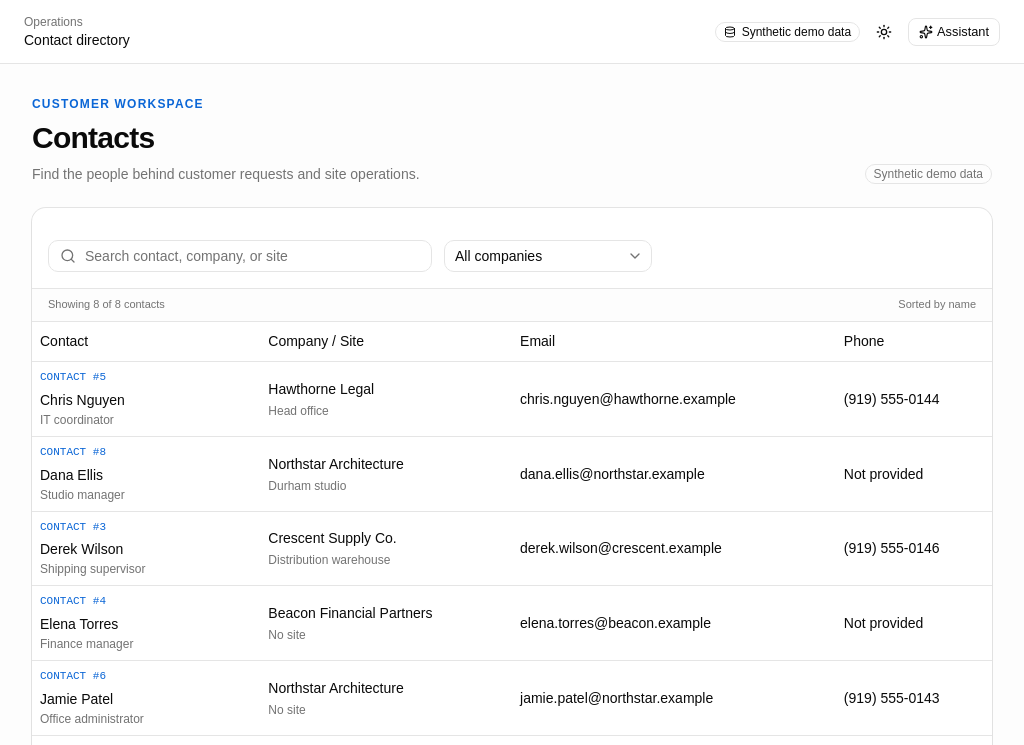
Test: contact routes › combines search with the company filter and clears both
Click the dropdown named "Filter by company".
click(548, 256)  # box [444,240,652,272]
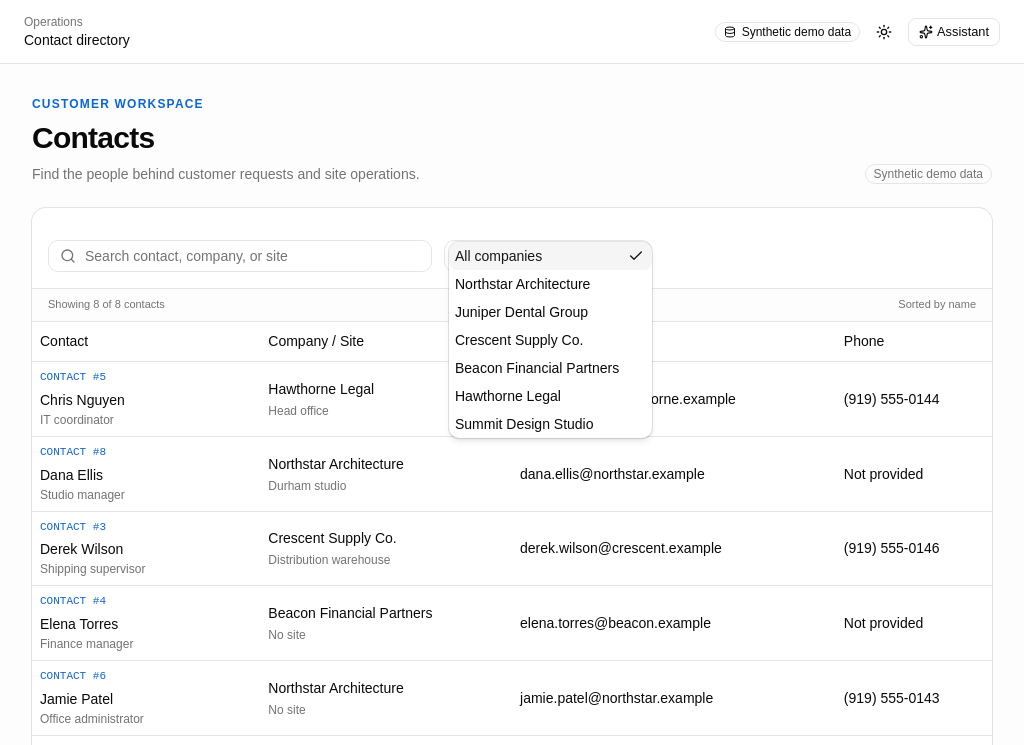
Click the option "Juniper Dental Group".
click(522, 312)  # box [455,304,588,320]
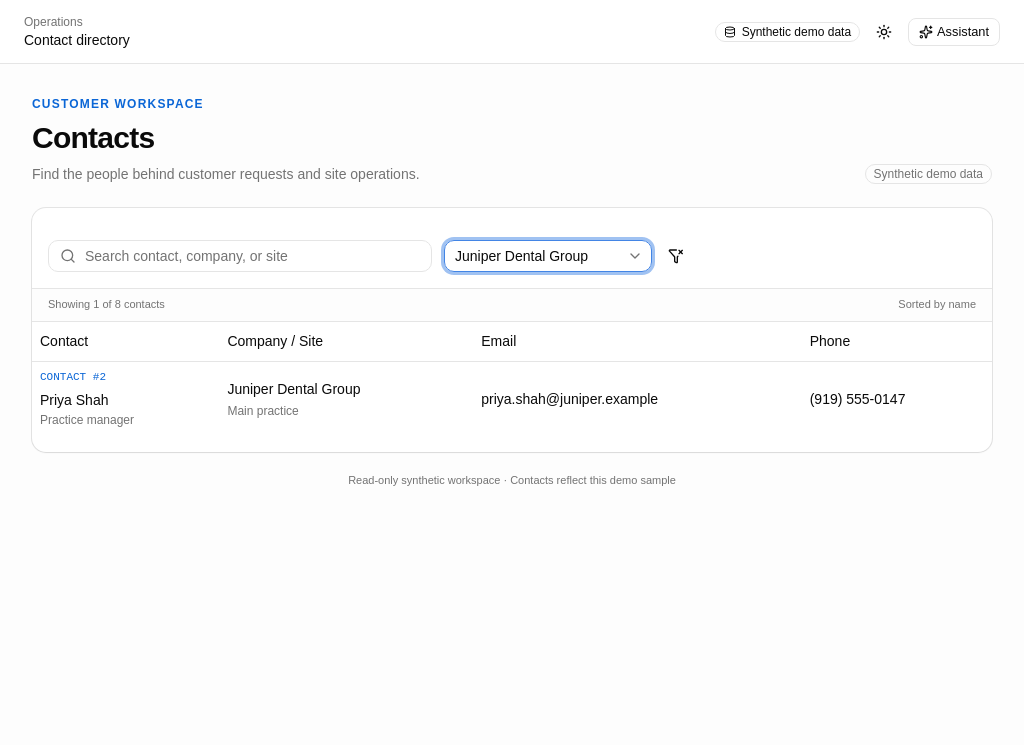
Expected: the text "Showing 1 of 8 contacts" is shown, [48,297,165,313]
Expected: the link with aria-label "Open contact #2: Priya Shah" is shown, [40,390,108,410]
Type "Morgan" into the field named "Search contacts".
click(240, 256); type("Morgan")  # box [48,240,432,272]
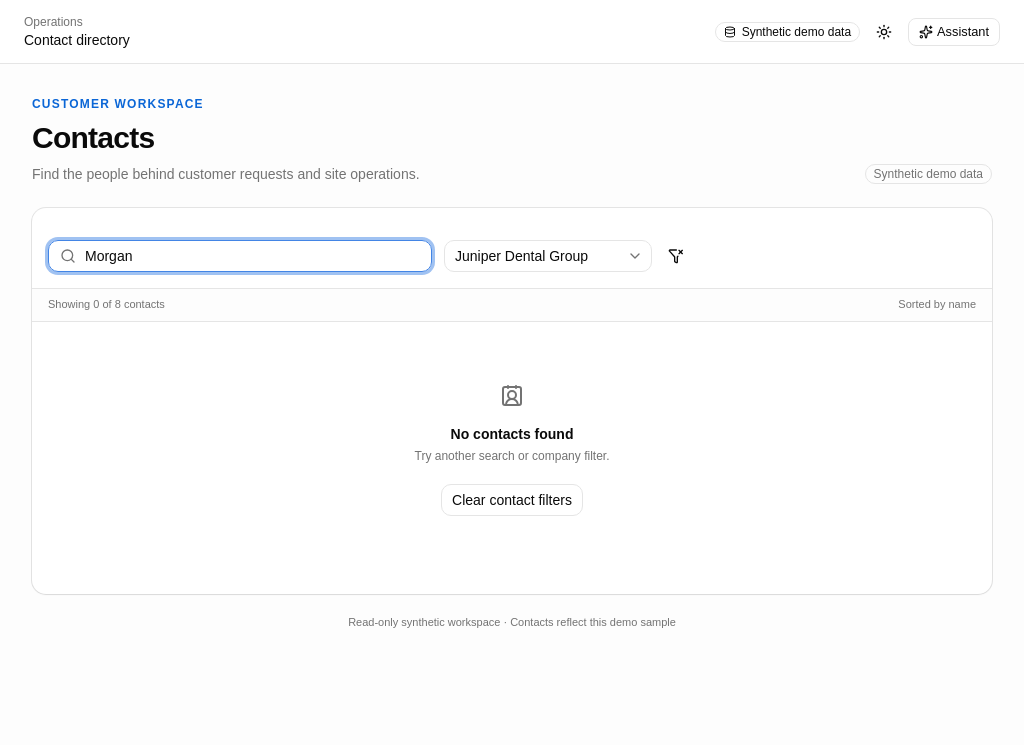
Expected: the heading "No contacts found" is shown, [450,424,573,444]
Click the button "Clear contact filters".
click(512, 500)  # box [441,484,583,516]
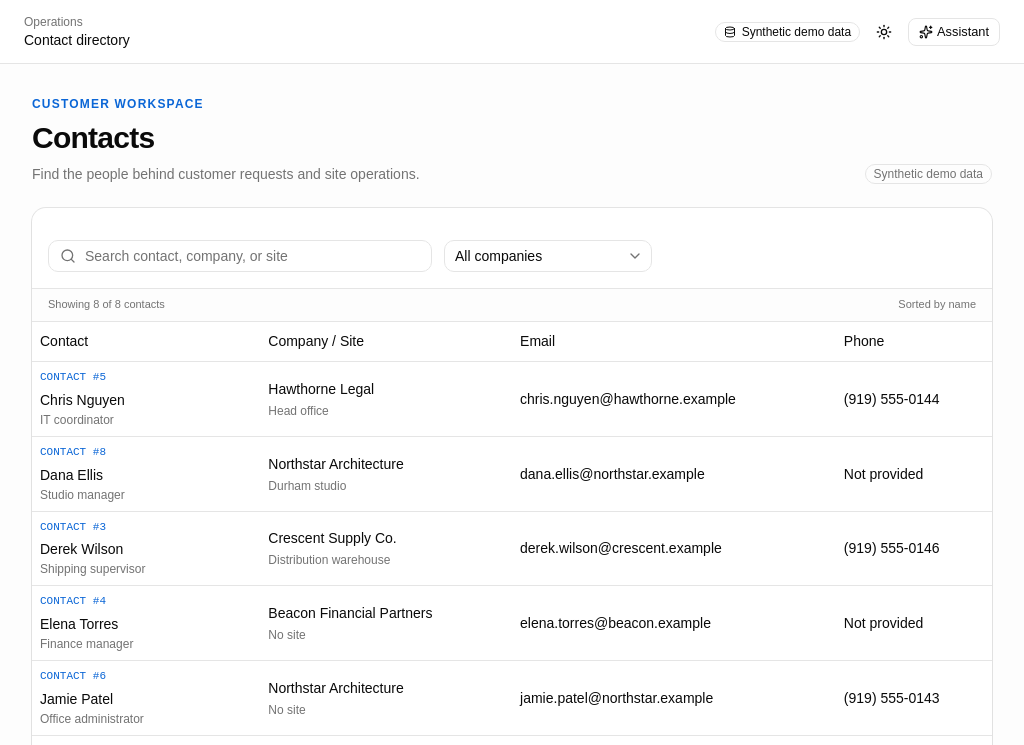
Expected: the text "Showing 8 of 8 contacts" is shown, [48,297,165,313]
